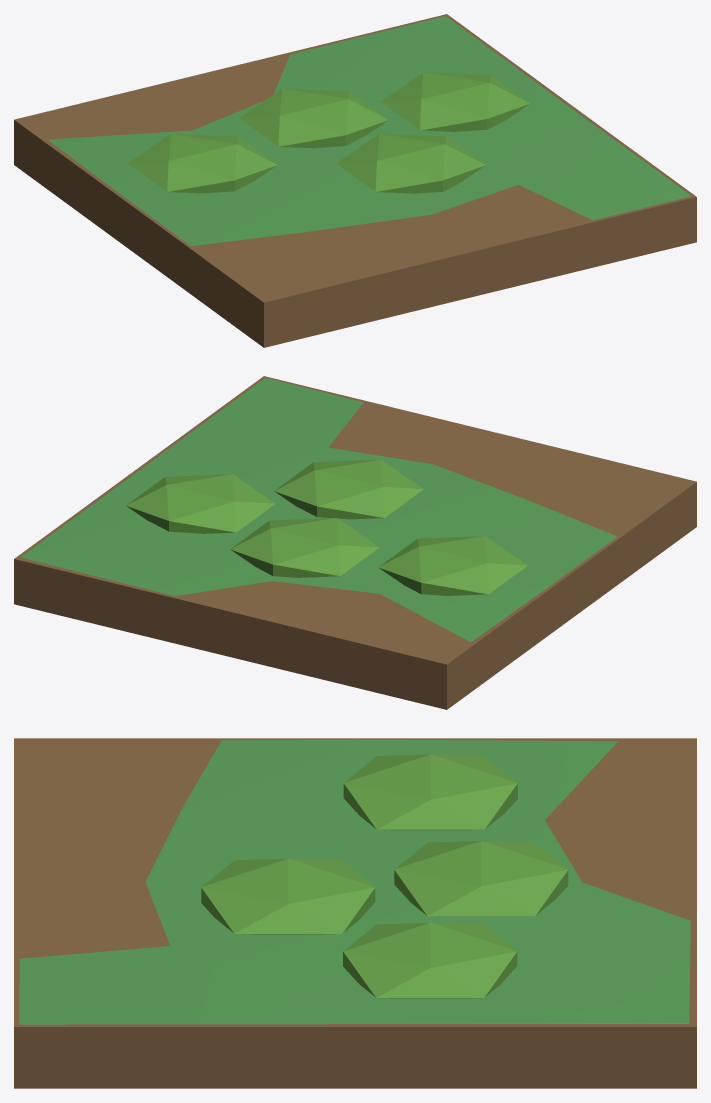
File: stage1_floor_05.glb
The picture shows the model from 3 angles, top to bottom: view 1: azimuth 30°, elevation 25°; view 2: azimuth 150°, elevation 25°; view 3: azimuth 270°, elevation 25°; orthographic projection. The views are drawn at different scales.
Visible parts, largest first — view 1: stage1_floor_05_dirt, stage1_floor_05_grass, stage1_floor_05_moss; view 2: stage1_floor_05_dirt, stage1_floor_05_grass, stage1_floor_05_moss; view 3: stage1_floor_05_dirt, stage1_floor_05_grass, stage1_floor_05_moss.
Boxes of the visible parts, left/top/right/bottom form: stage1_floor_05_dirt: left=14, top=14, right=696, bottom=347; stage1_floor_05_grass: left=48, top=16, right=691, bottom=246; stage1_floor_05_moss: left=128, top=72, right=530, bottom=193; stage1_floor_05_dirt: left=14, top=376, right=696, bottom=709; stage1_floor_05_grass: left=21, top=378, right=617, bottom=641; stage1_floor_05_moss: left=126, top=459, right=527, bottom=595; stage1_floor_05_dirt: left=14, top=738, right=696, bottom=1088; stage1_floor_05_grass: left=19, top=739, right=690, bottom=1024; stage1_floor_05_moss: left=201, top=754, right=568, bottom=998.
Bounding box in the file's own units: 1 × 0.1355 × 1.
